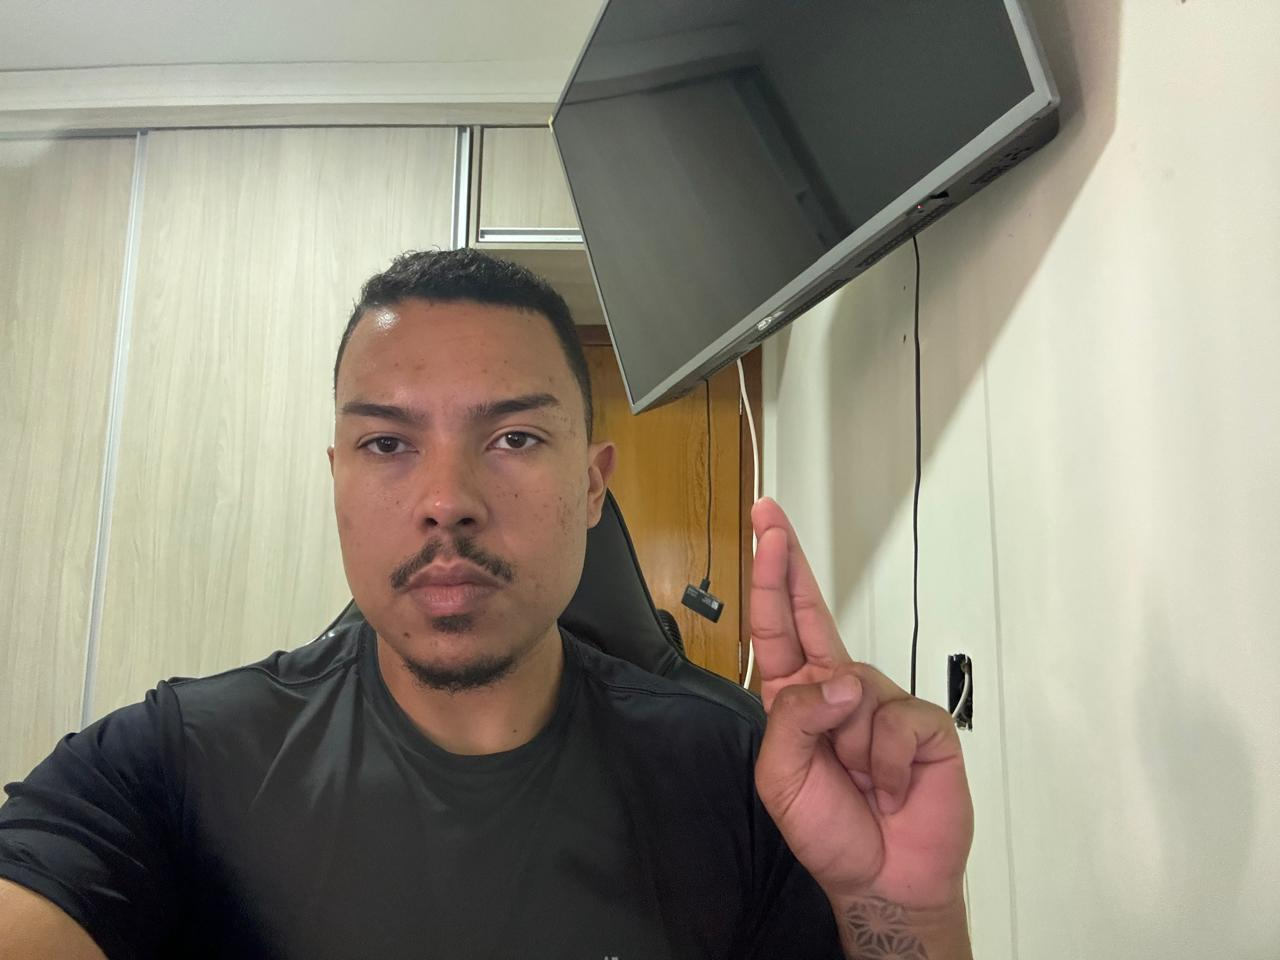r: (725, 493, 985, 916)
